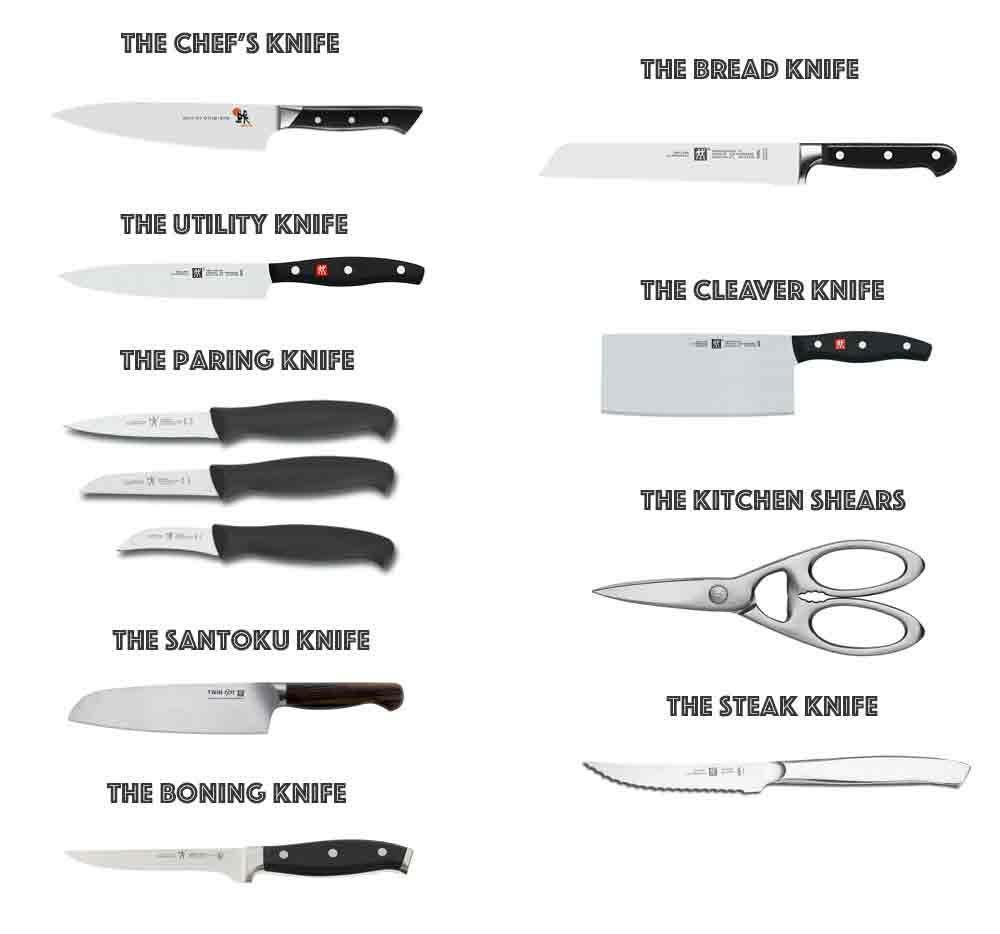Knife: (593, 320, 937, 430), (530, 130, 966, 196), (576, 744, 981, 814), (49, 94, 433, 157), (66, 673, 409, 743), (49, 254, 431, 311), (63, 836, 419, 896), (57, 393, 409, 449), (67, 454, 410, 510), (103, 513, 406, 574)
